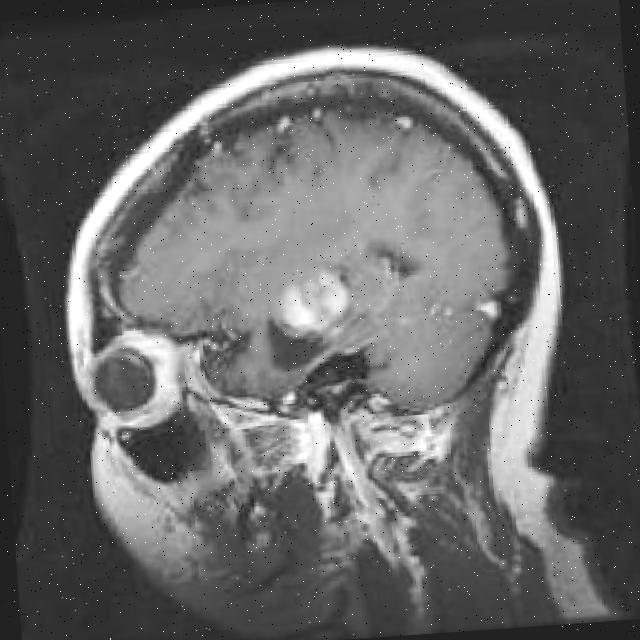MCI: (204, 246, 369, 376)
